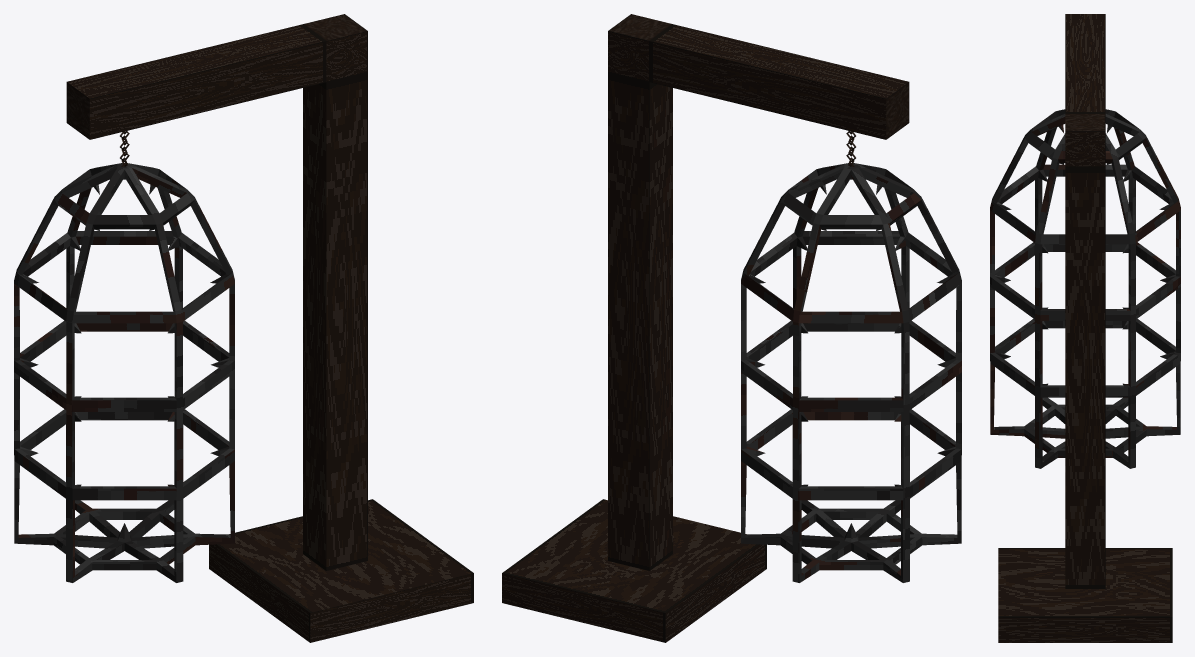
Rendered from Jaulatortura.glb.
3 views of the same model, side by side, from view 1: azimuth 30°, elevation 25°; view 2: azimuth 150°, elevation 25°; view 3: azimuth 270°, elevation 25° (orthographic). The views are drawn at different scales.
Parts seen in each view (by area): view 1: Jaula-col; view 2: Jaula-col; view 3: Jaula-col.
Part boxes in pixels (x1=…): Jaula-col: x1=14, y1=14, x2=473, y2=642; Jaula-col: x1=502, y1=14, x2=961, y2=642; Jaula-col: x1=990, y1=14, x2=1180, y2=642.
Size of the model in its own units: 1.96 by 2.73 by 0.9787.
Materials: 2 (2 with a texture image).
